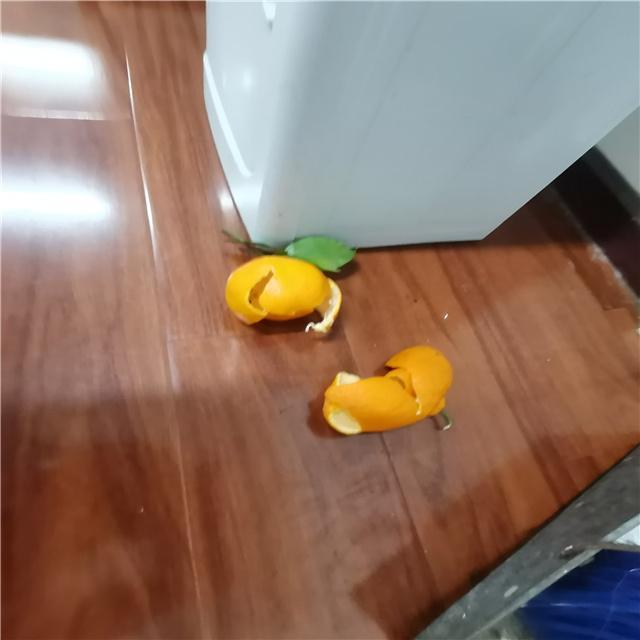orange-peel: (320, 343, 453, 436), (224, 253, 331, 326)
